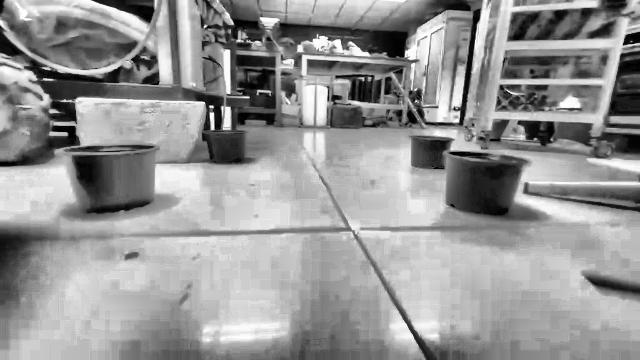pot: (60, 144, 158, 212), (444, 150, 529, 216), (202, 130, 246, 163), (410, 136, 453, 169)
